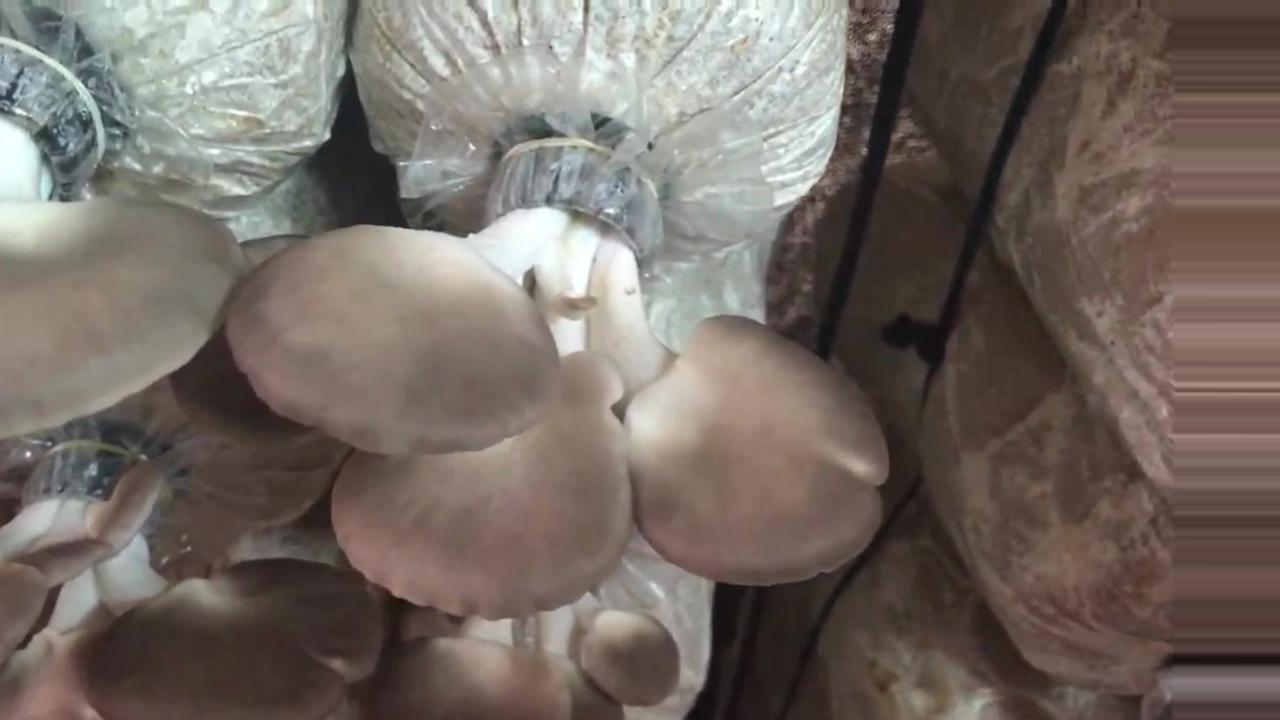nam: (230, 145, 885, 617), (1, 438, 381, 720), (1, 4, 235, 430), (349, 595, 680, 720)
